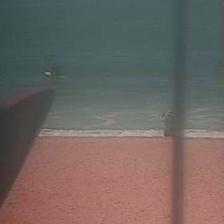surfer: (44, 66, 68, 79)
